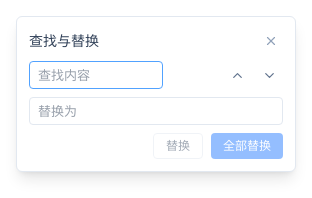
it: SearchPanel › 替换按钮在有搜索词时可用
The image size is (312, 198).
Type "关键词" into the field with placeholder "查找内容" at (96, 75), box [29,61,163,89]
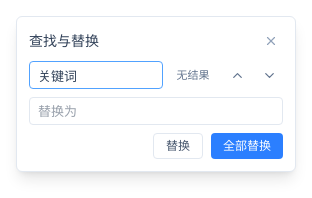
Expected: the button "替换" is enabled, [153,133,203,159]
